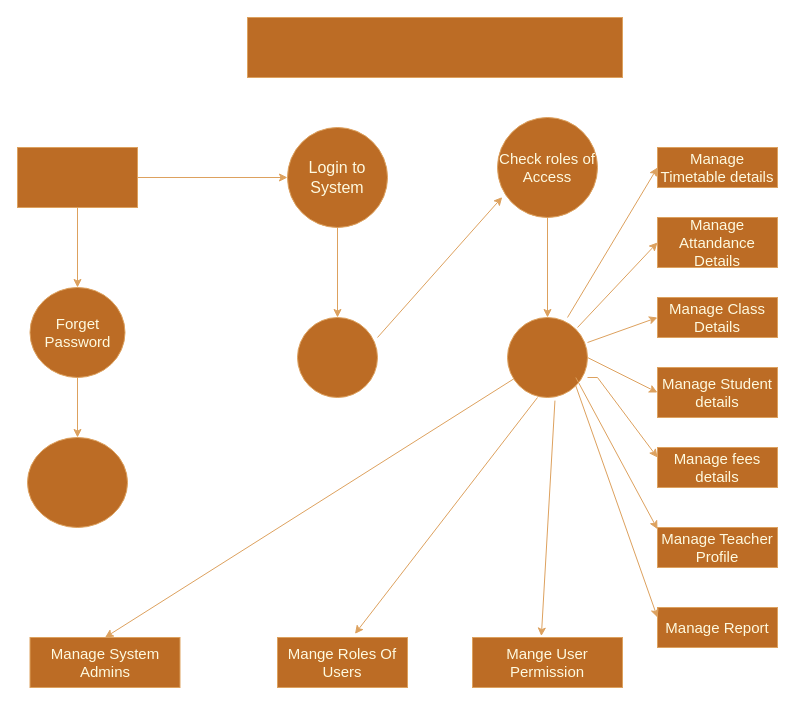
The diagram is 795 pixels wide and 713 high, and some of its shapes have lost their labels. Each missing label, with the centre of its shape:
Admin: (77,177)
Check Credentials: (337,357)
Manage modules: (547,357)
Send email to user: (77,482)
Student Information System: (434,47)
